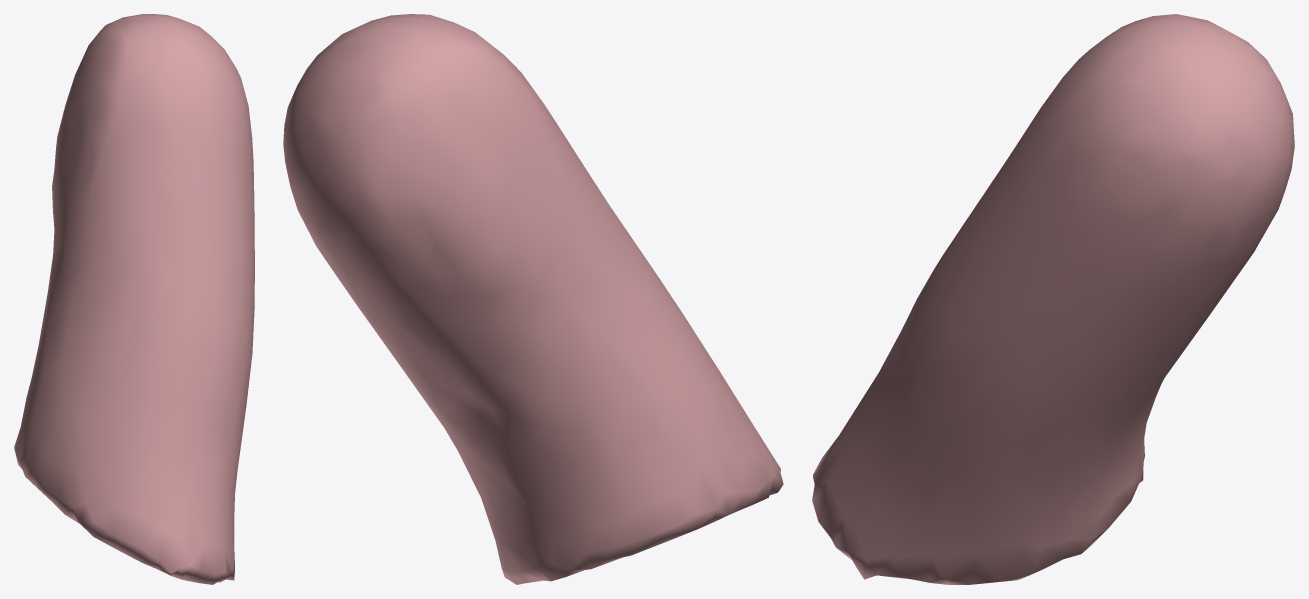
Rendered from fma64179_mm1223.glb.
3 renders of one model, left to right at view 1: azimuth 30°, elevation 25°; view 2: azimuth 150°, elevation 25°; view 3: azimuth 270°, elevation 25°, orthographic. The views are drawn at different scales.
Parts seen in each view (by area): view 1: FMA64179_MM1223; view 2: FMA64179_MM1223; view 3: FMA64179_MM1223.
Boxes of the visible parts, box(x1,y1,x2,y2) form: FMA64179_MM1223: box(14, 14, 254, 584); FMA64179_MM1223: box(283, 14, 783, 584); FMA64179_MM1223: box(812, 14, 1294, 584).
Bounding box in the file's own units: 0.00437 × 0.00716 × 0.00542.
